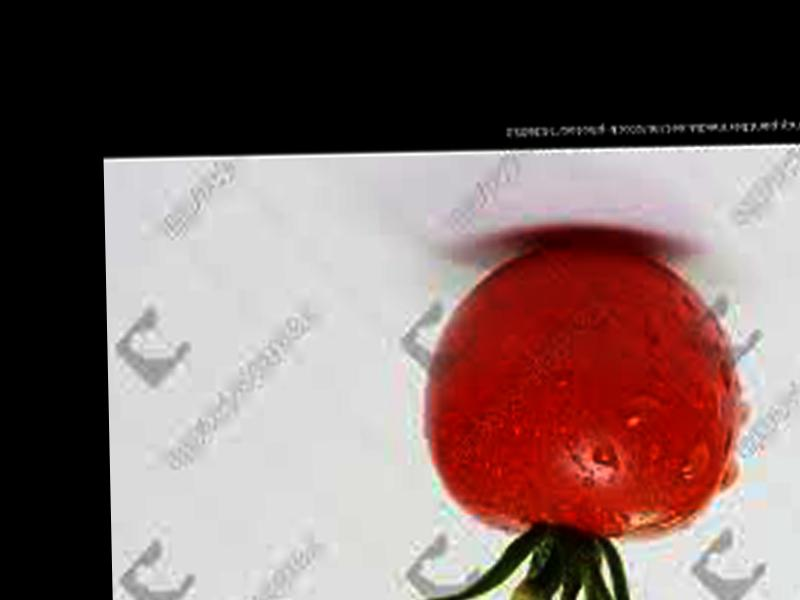Tomato: (421, 237, 734, 540)
